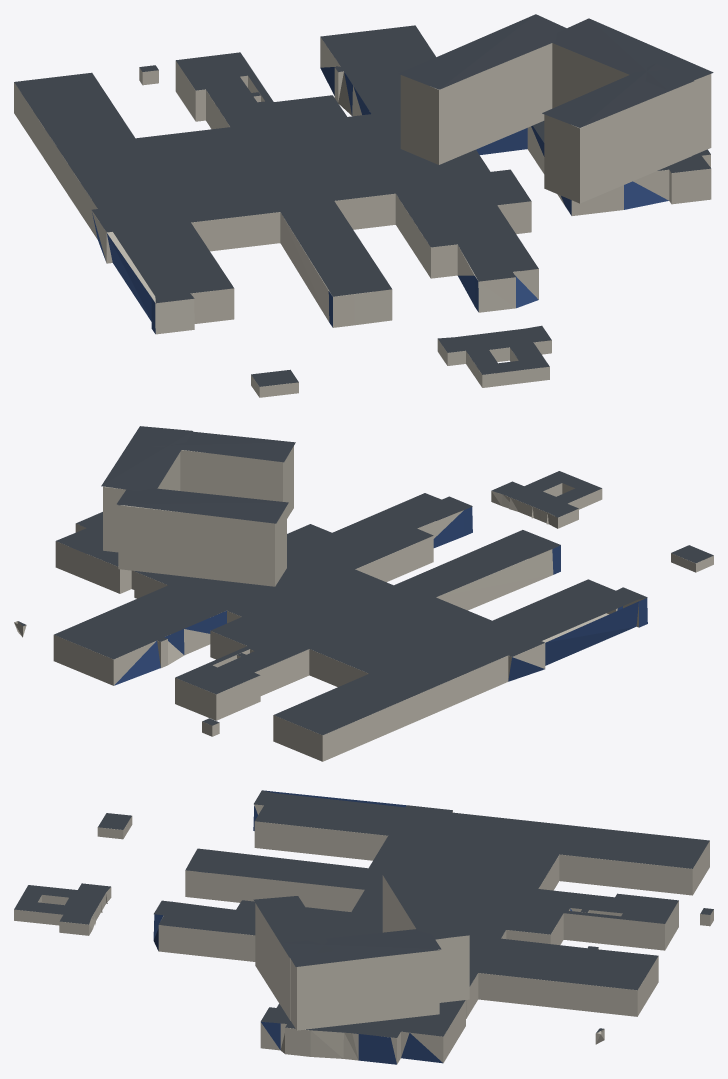
File: olvg-west.lod2.glb
The picture shows the model from 3 angles, top to bottom: view 1: azimuth 30°, elevation 25°; view 2: azimuth 150°, elevation 25°; view 3: azimuth 270°, elevation 25°; orthographic projection. The views are drawn at different scales.
Visible parts, largest first — view 1: lod2; view 2: lod2; view 3: lod2.
Part boxes in pixels (<box>): lod2: <box>14,14,713,397</box>; lod2: <box>14,426,713,761</box>; lod2: <box>14,790,713,1064</box>.
Size of the model in its own units: 190 by 32.94 by 227.
